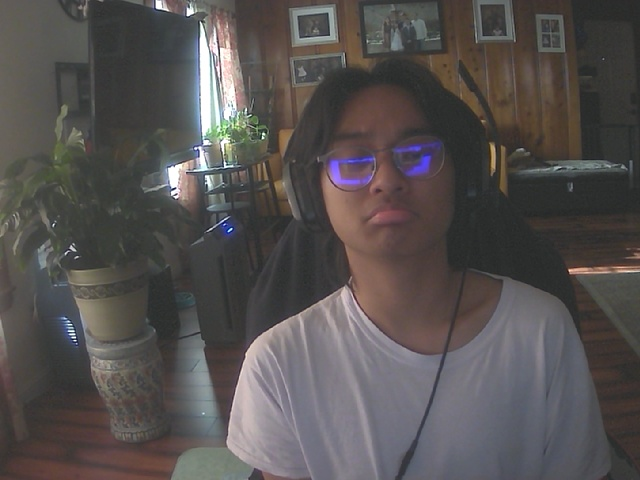sad: (315, 80, 463, 260)
